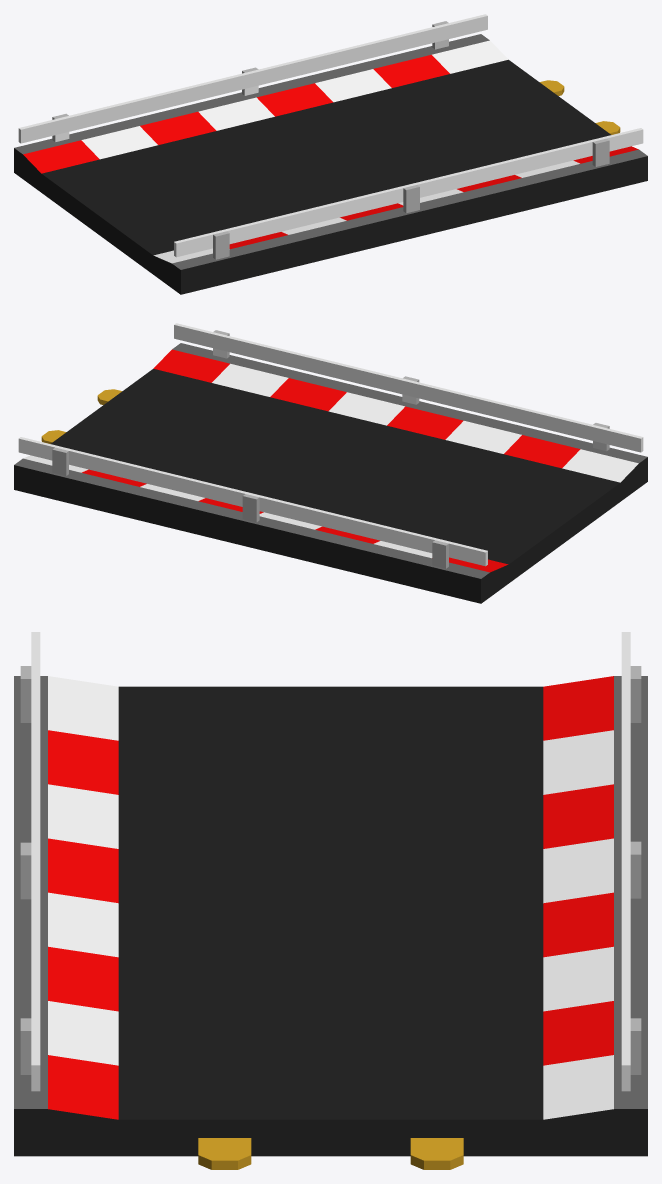
The picture shows the model from 3 angles, top to bottom: view 1: azimuth 30°, elevation 25°; view 2: azimuth 150°, elevation 25°; view 3: azimuth 270°, elevation 25°; orthographic projection. The views are drawn at different scales.
Visible parts, largest first — view 1: Group1; view 2: Group1; view 3: Group1.
Part boxes in pixels (x1,y1,x2,y2): Group1: (14,14,647,294); Group1: (14,323,647,603); Group1: (14,632,647,1169).
Bounding box in the file's own units: 21.96 × 2.05 × 12.91.
